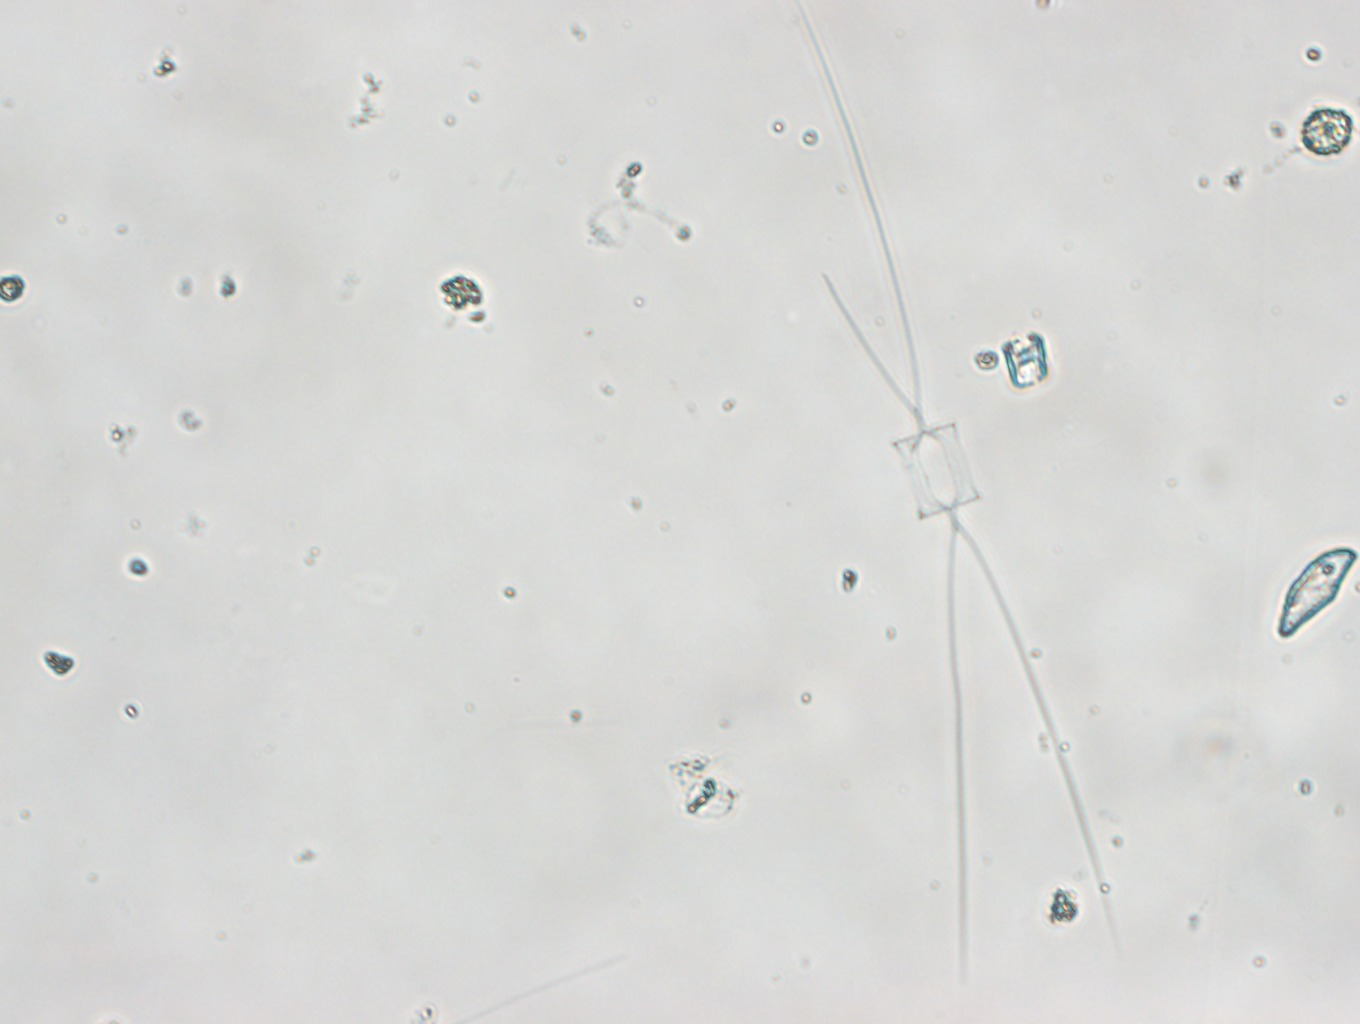chaetoceros: (807, 9, 1123, 966)
